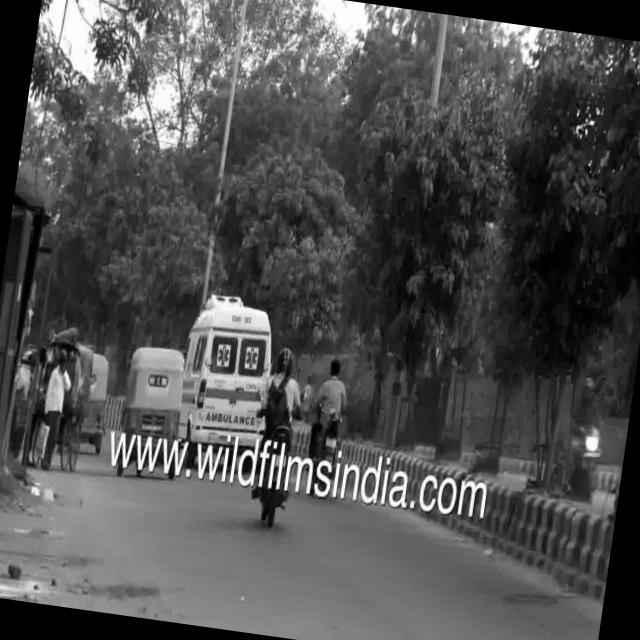ambulance: (188, 294, 283, 446)
